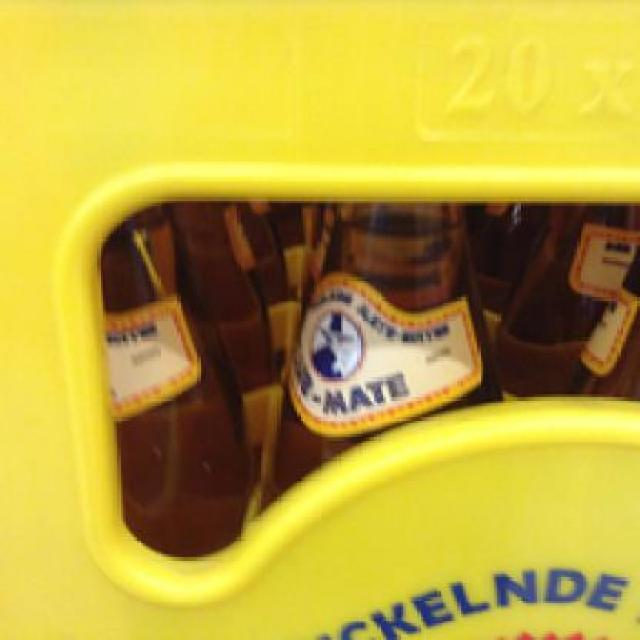Soda: (257, 196, 503, 509), (100, 197, 249, 552)
